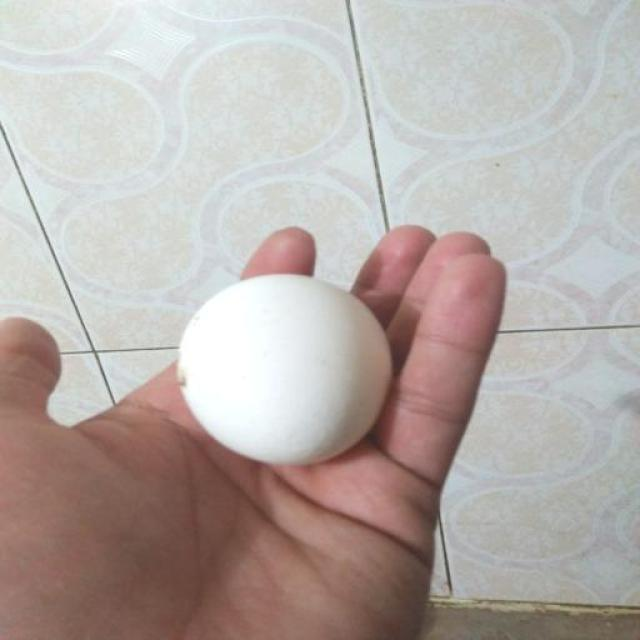telur: (172, 271, 397, 470)
